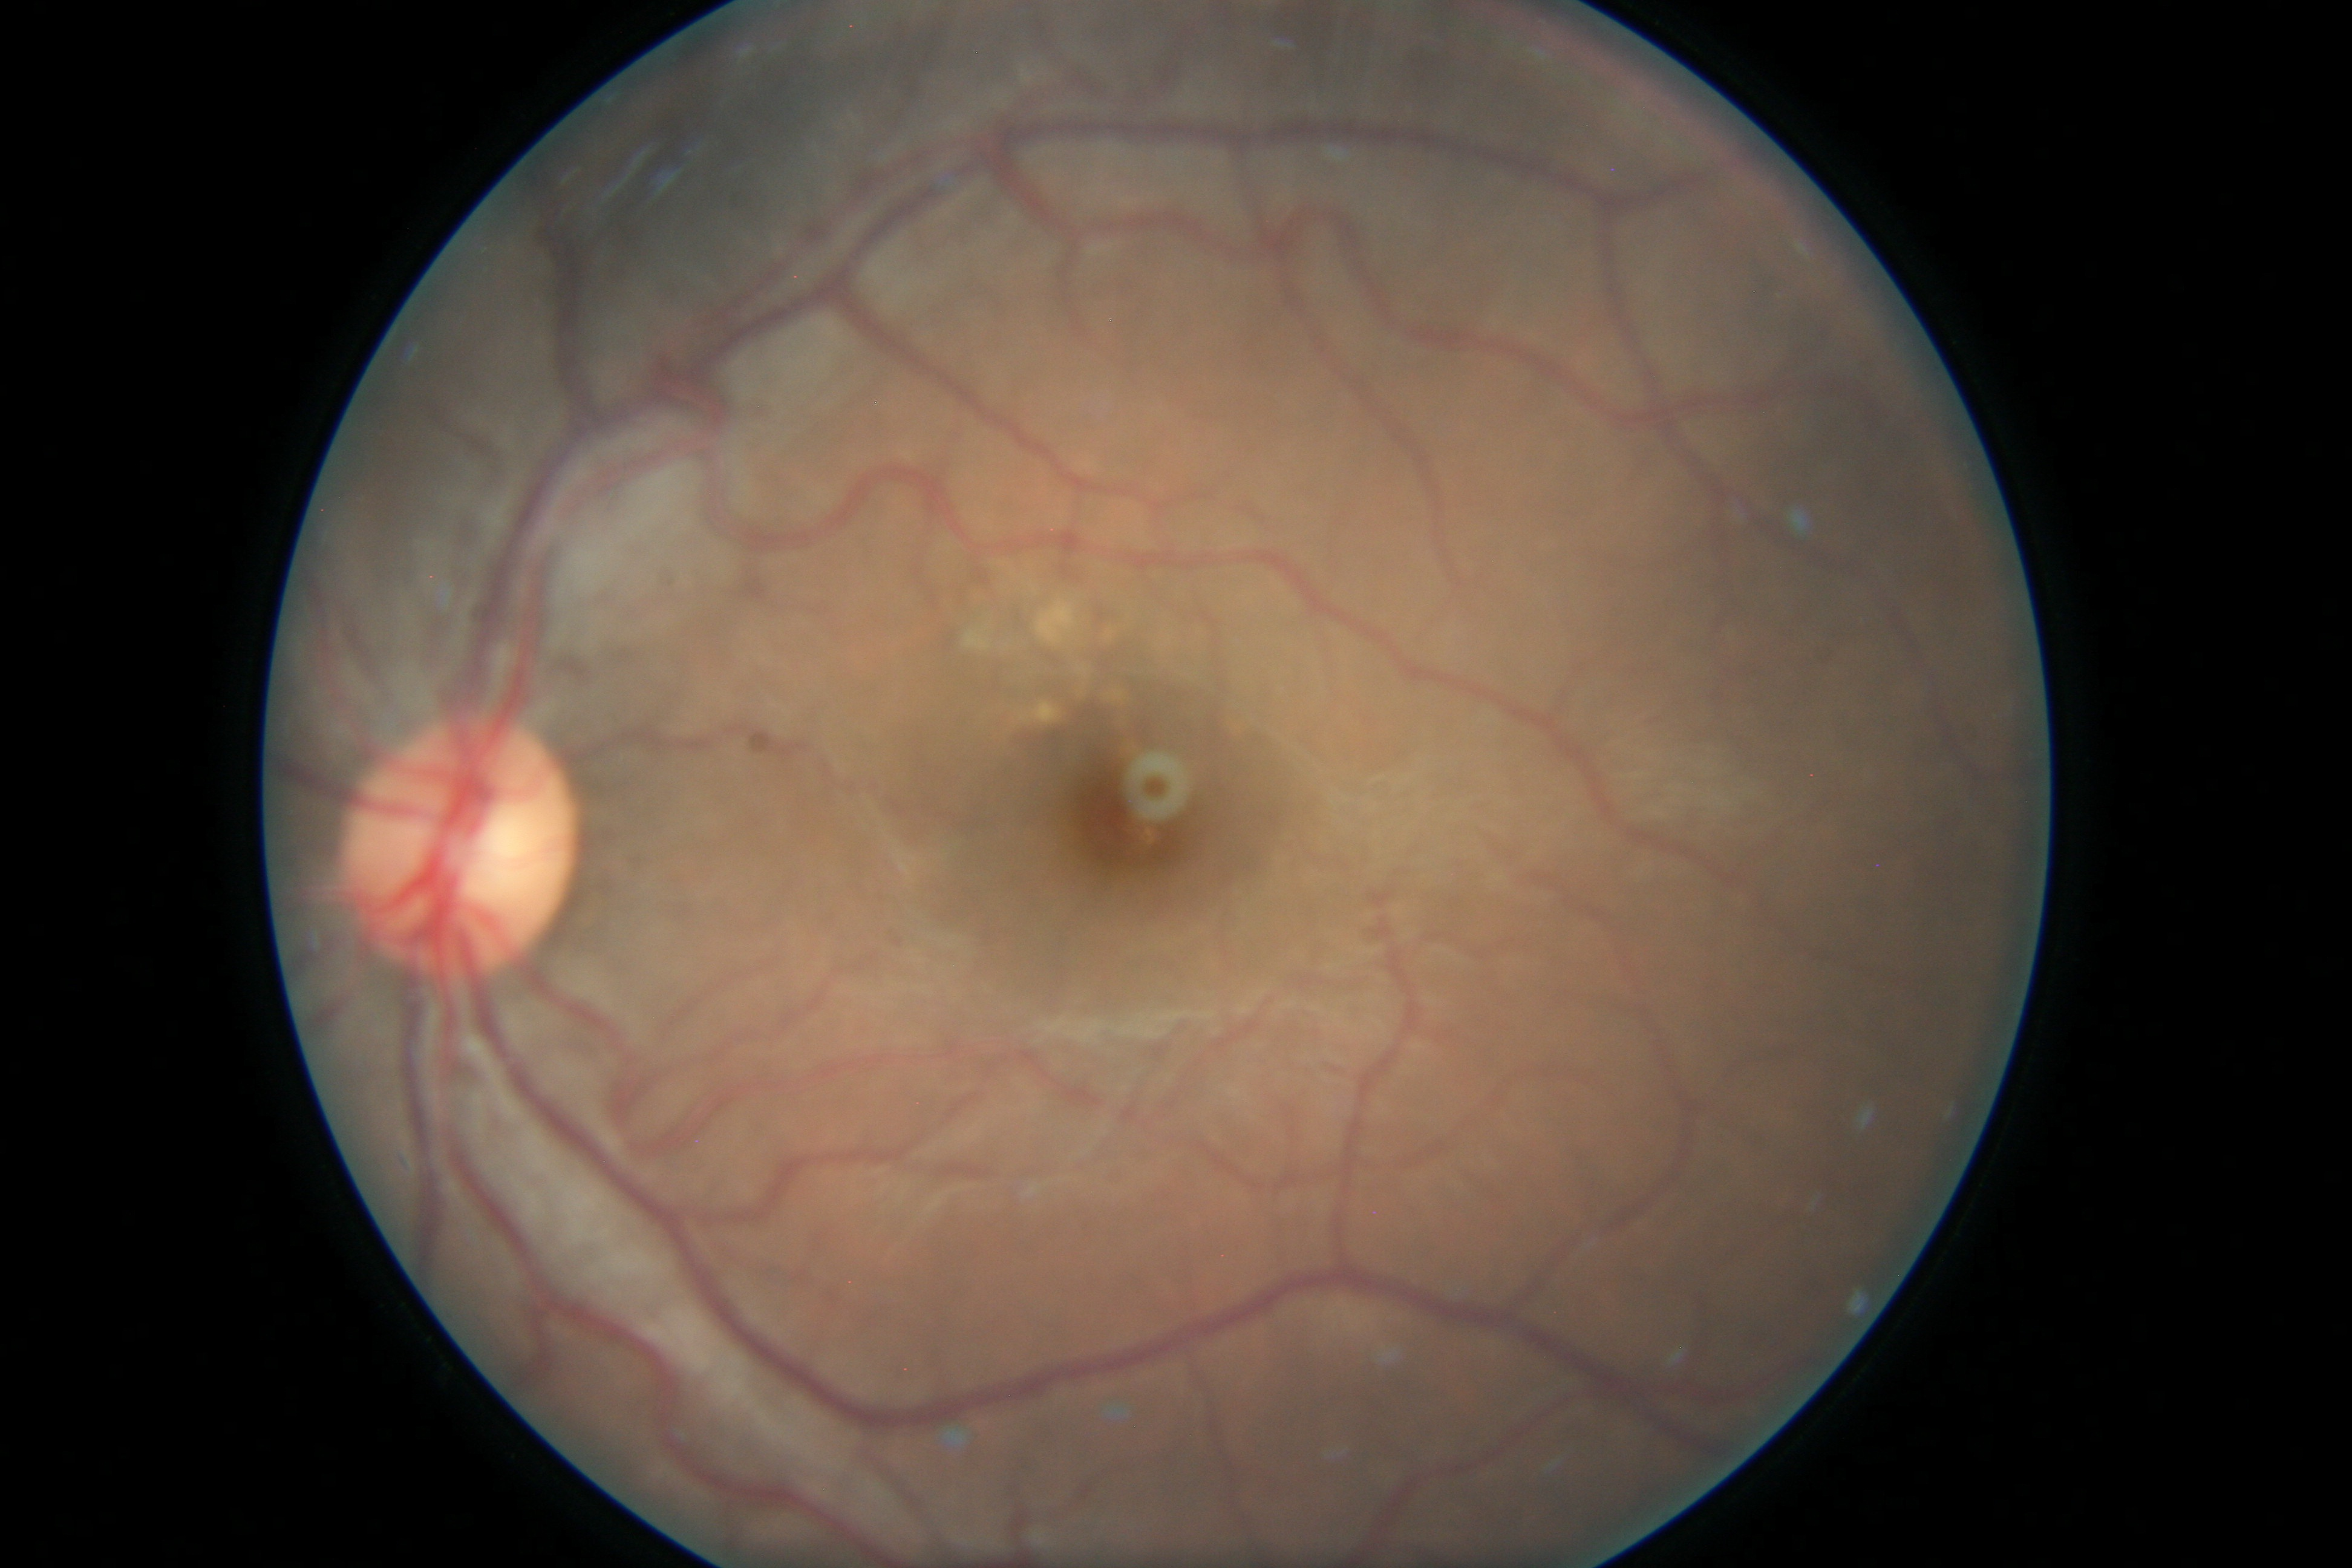Fovea: (1043, 724, 1223, 922)
OD: (339, 696, 590, 997)
